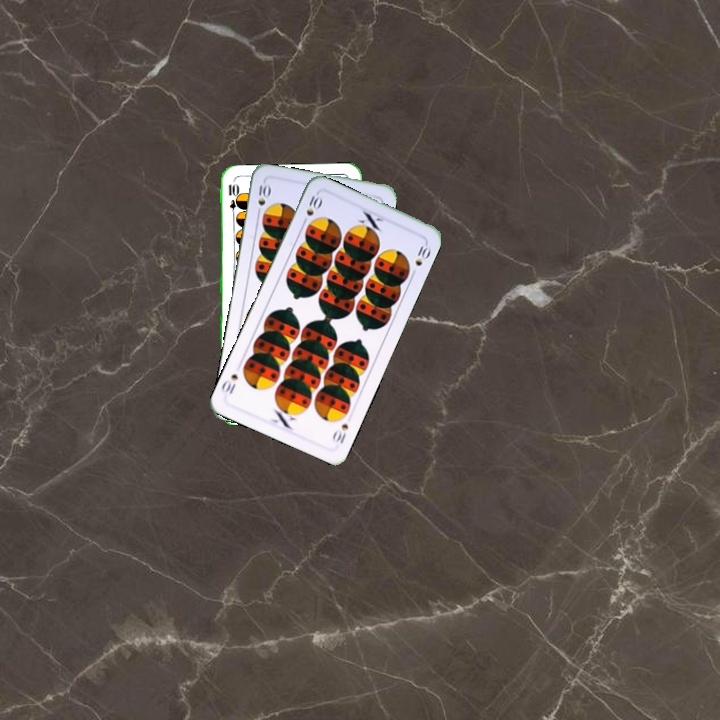E10: (224, 180, 239, 220)
S10: (298, 191, 325, 228), (253, 178, 272, 218), (328, 420, 351, 447)
